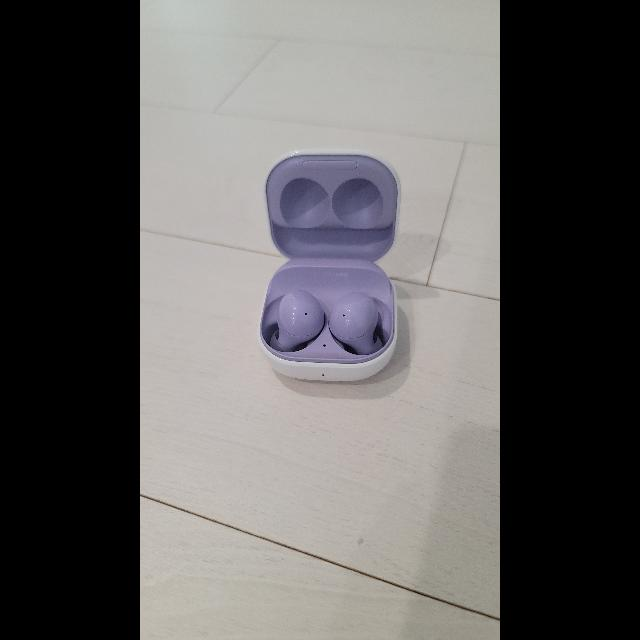GALAXY-BUDS-2: (259, 149, 401, 379)
